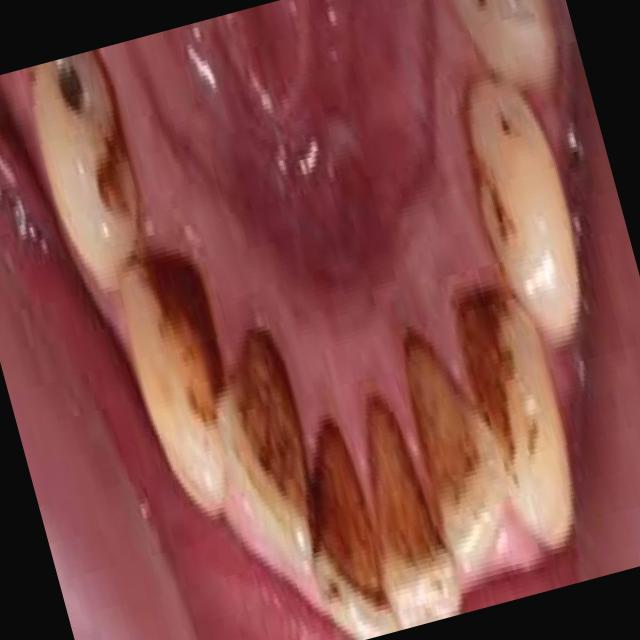calculus: (384, 312, 499, 547), (452, 70, 556, 274), (216, 327, 322, 522), (344, 378, 442, 586), (126, 231, 237, 410), (37, 48, 141, 226), (446, 280, 541, 467), (301, 428, 388, 612)
